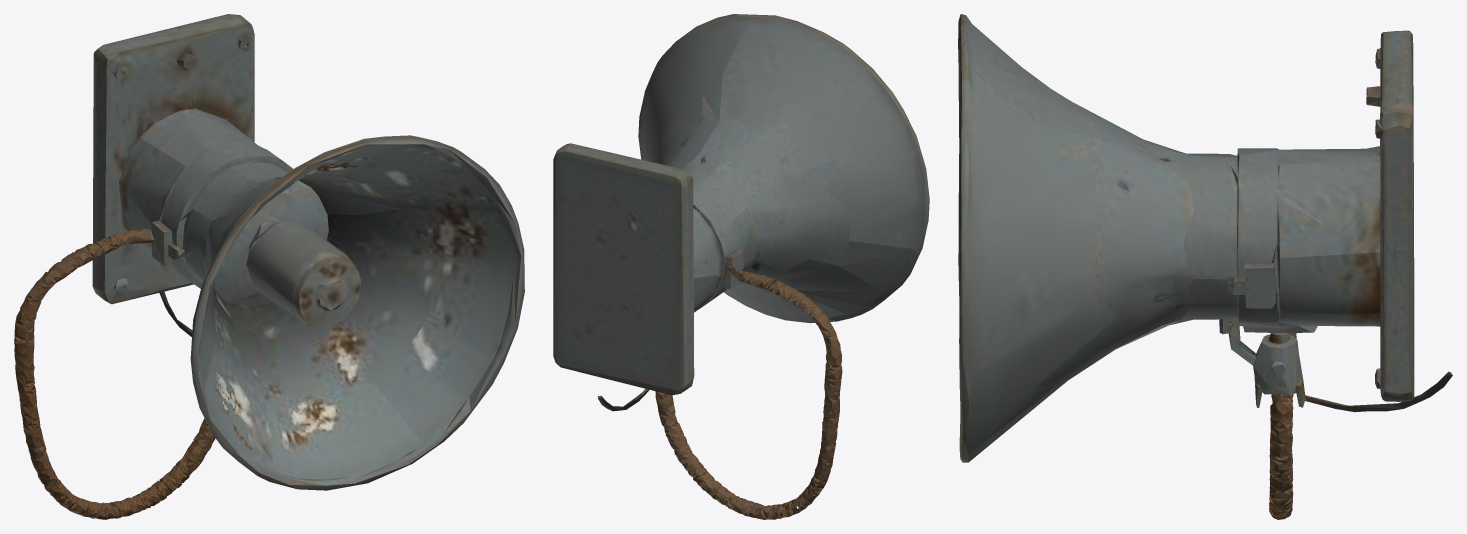
Rendered from altoparlante.glb.
3 views of the same model, side by side, from view 1: azimuth 30°, elevation 25°; view 2: azimuth 150°, elevation 25°; view 3: azimuth 270°, elevation 25° (orthographic). The views are drawn at different scales.
Visible parts, largest first — view 1: Mesh_0; view 2: Mesh_0; view 3: Mesh_0.
Boxes of the visible parts, box(x1,y1,x2,y2) form: Mesh_0: box(14, 14, 524, 519); Mesh_0: box(553, 14, 929, 519); Mesh_0: box(958, 14, 1452, 519).
Bounding box in the file's own units: 0.4312 × 0.5 × 0.4248.
1 material, 1 textured.
